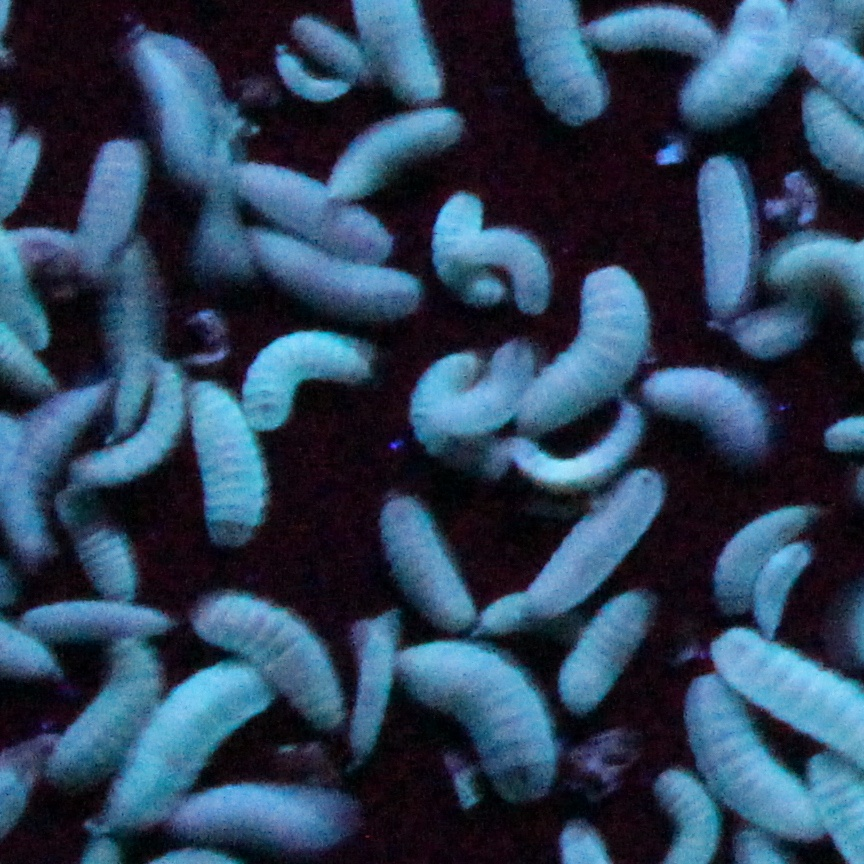larve: (102, 659, 276, 830), (395, 634, 561, 805), (680, 670, 832, 842), (517, 466, 674, 620), (515, 257, 652, 433), (194, 592, 345, 733), (40, 634, 163, 793), (247, 227, 427, 323), (235, 156, 392, 264), (321, 107, 466, 215), (127, 33, 228, 187), (183, 377, 268, 549), (373, 493, 480, 629), (241, 330, 376, 434), (514, 393, 646, 499), (641, 360, 767, 470), (76, 359, 188, 482), (714, 505, 823, 625), (556, 586, 652, 716), (103, 239, 164, 430), (438, 330, 537, 445), (73, 135, 146, 279), (695, 152, 753, 328), (54, 485, 135, 604), (455, 226, 556, 319), (577, 0, 720, 63), (432, 187, 507, 306), (342, 612, 398, 760), (408, 349, 483, 456), (16, 599, 180, 643), (733, 278, 818, 359), (746, 540, 813, 640), (291, 14, 377, 87), (274, 46, 361, 108), (477, 577, 542, 637)
